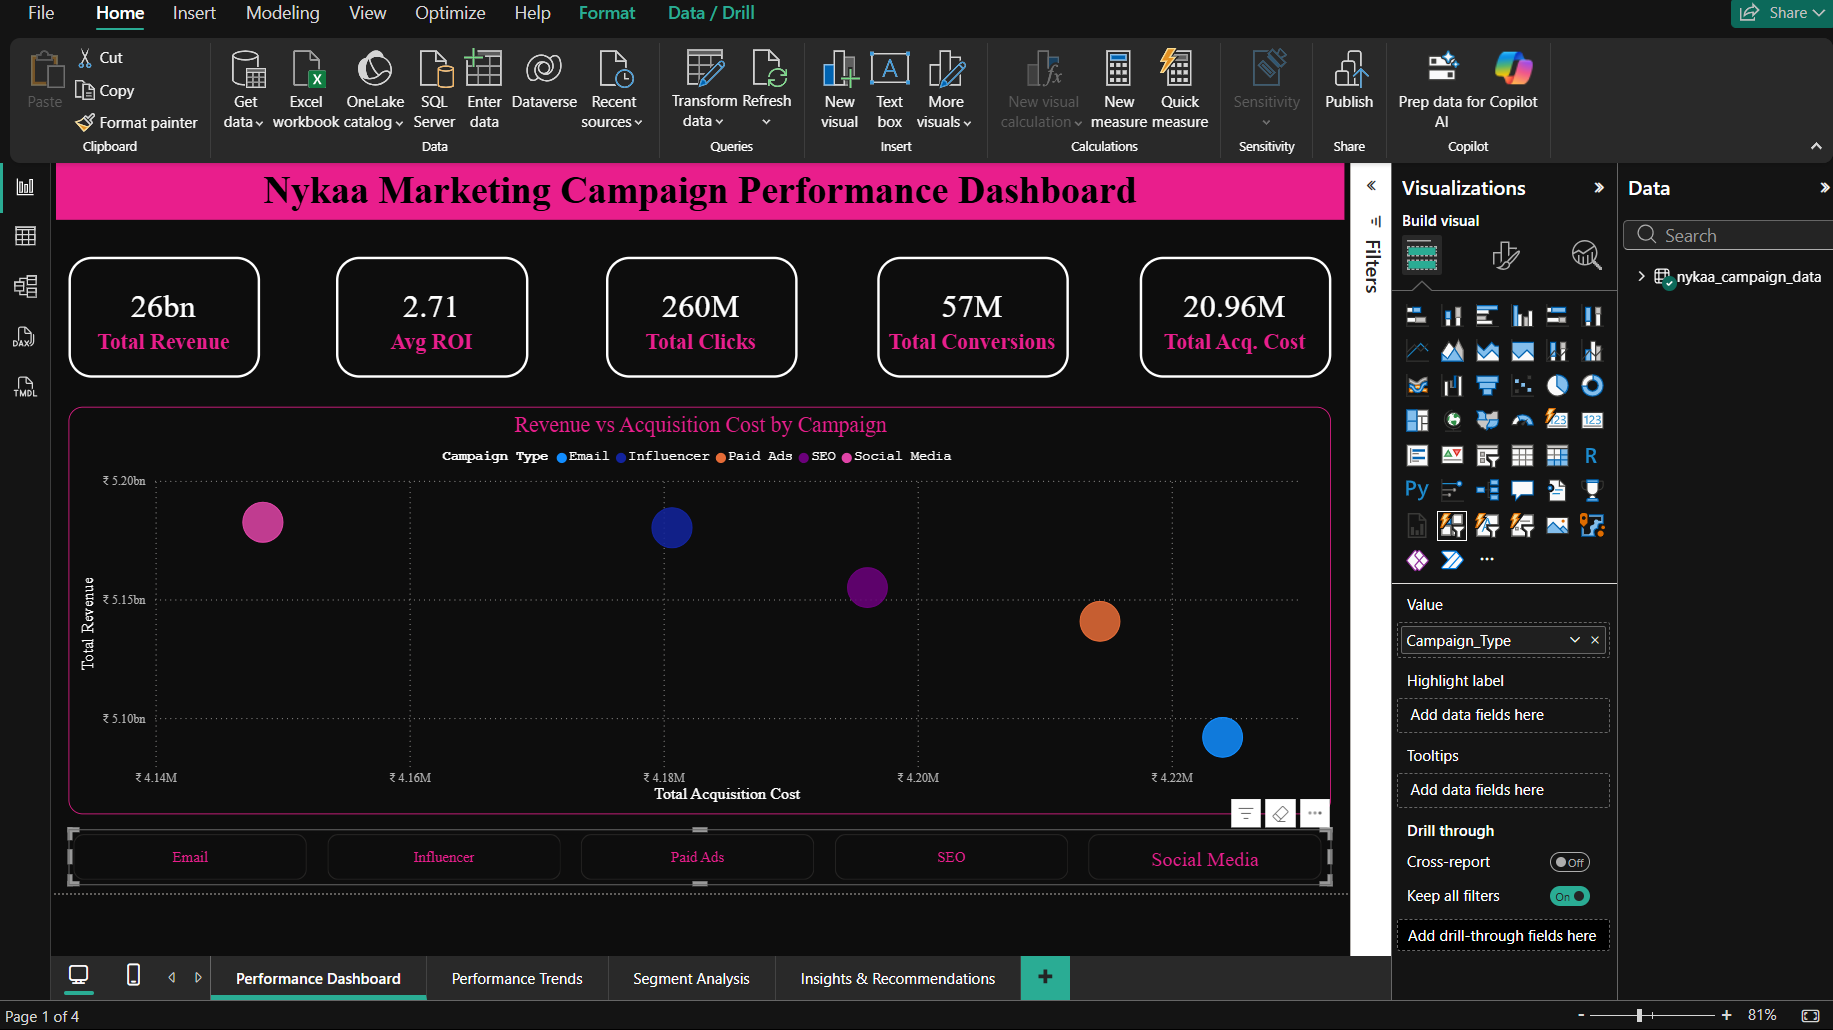

Layout of this report page (visuals, bound fields, positions):
{"tool":"powerbi","page":{"name":"Performance Dashboard","canvas":[1280,720],"ordinal":0},"visuals":[{"type":"textbox","box":[5.3,0,1269.4,55.8],"z":0},{"type":"card","fields":{"Values":["Sum(nykaa_campaign_data.Revenue)"]},"box":[17.2,92.4,188.5,119.5],"z":1000},{"type":"card","fields":{"Values":["Avg(nykaa_campaign_data.ROI)"]},"box":[280.8,92.4,189.7,119.5],"z":2000},{"type":"card","fields":{"Values":["Sum(nykaa_campaign_data.Clicks)"]},"box":[546.9,92.4,188.5,119.5],"z":3000},{"type":"card","fields":{"Values":["Sum(nykaa_campaign_data.Conversions)"]},"box":[814.2,92.4,188.5,119.5],"z":4000},{"type":"card","fields":{"Values":["Sum(nykaa_campaign_data.Acquisition_Cost)"]},"box":[1072.8,92.4,188.5,119.5],"z":5000},{"type":"scatterChart","title":"Revenue vs Acquisition Cost by Campaign","fields":{"X":["Sum(nykaa_campaign_data.Acquisition_Cost)"],"Y":["Sum(nykaa_campaign_data.Revenue)"],"Series":["nykaa_campaign_data.Campaign_Type"],"Size":["Sum(nykaa_campaign_data.Conversions)"]},"box":[17.2,240.2,1244,401.5],"z":6500},{"type":"advancedSlicerVisual","title":"Campaign Type","fields":{"Values":["nykaa_campaign_data.Campaign_Type"]},"box":[17.2,656.5,1244,55.4],"z":7000}]}

Visuals, with their boxes on the page's 1280x720 design canvas (x1, y1, x2, y2). These are canvas units, not pixel positions in the 1833x1030 screenshot, which may show the page scaled, cropped or inside an application window:
textbox: [x1=5, y1=0, x2=1275, y2=56]
card - Sum(nykaa_campaign_data.Revenue): [x1=17, y1=92, x2=206, y2=212]
card - Avg(nykaa_campaign_data.ROI): [x1=281, y1=92, x2=470, y2=212]
card - Sum(nykaa_campaign_data.Clicks): [x1=547, y1=92, x2=735, y2=212]
card - Sum(nykaa_campaign_data.Conversions): [x1=814, y1=92, x2=1003, y2=212]
card - Sum(nykaa_campaign_data.Acquisition_Cost): [x1=1073, y1=92, x2=1261, y2=212]
"Revenue vs Acquisition Cost by Campaign" scatterChart: [x1=17, y1=240, x2=1261, y2=642]
"Campaign Type" advancedSlicerVisual: [x1=17, y1=656, x2=1261, y2=712]
